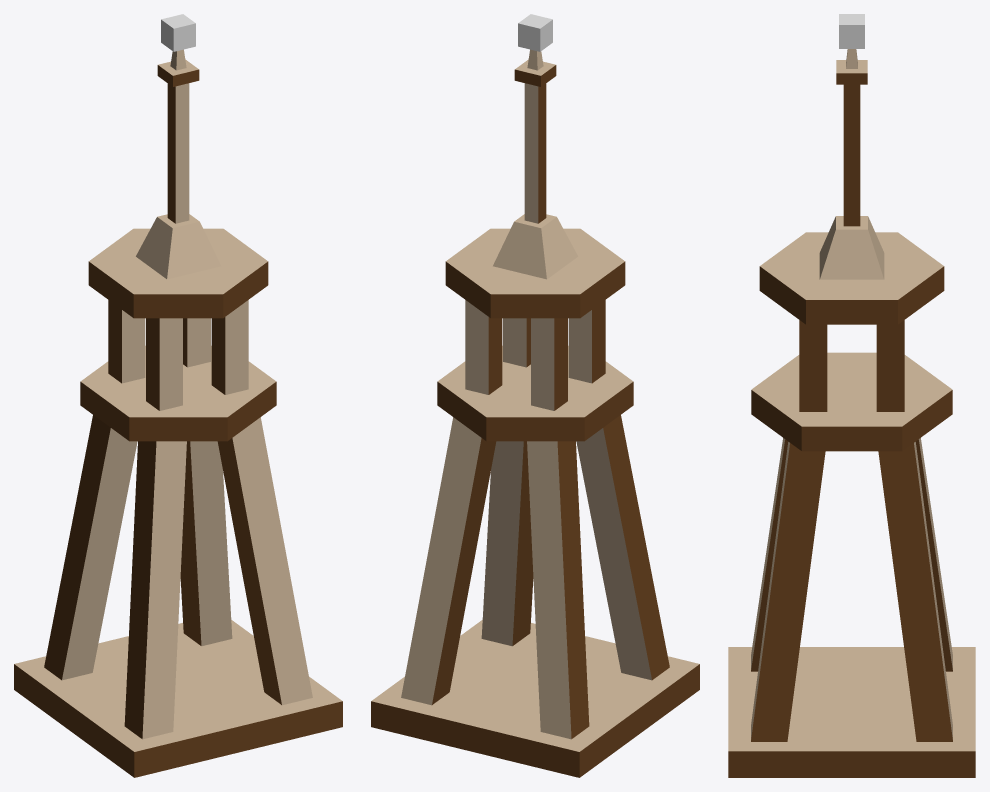
File: RadioTower.fbx
3 renders of one model, left to right at view 1: azimuth 30°, elevation 25°; view 2: azimuth 150°, elevation 25°; view 3: azimuth 270°, elevation 25°, orthographic. The views are drawn at different scales.
Parts seen in each view (by area): view 1: RadioTower; view 2: RadioTower; view 3: RadioTower.
Part boxes in pixels (x1,y1,x2,y2): RadioTower: (14, 14, 342, 777); RadioTower: (371, 14, 699, 777); RadioTower: (728, 14, 975, 777).
Size of the model in its own units: 200 by 630 by 200.
